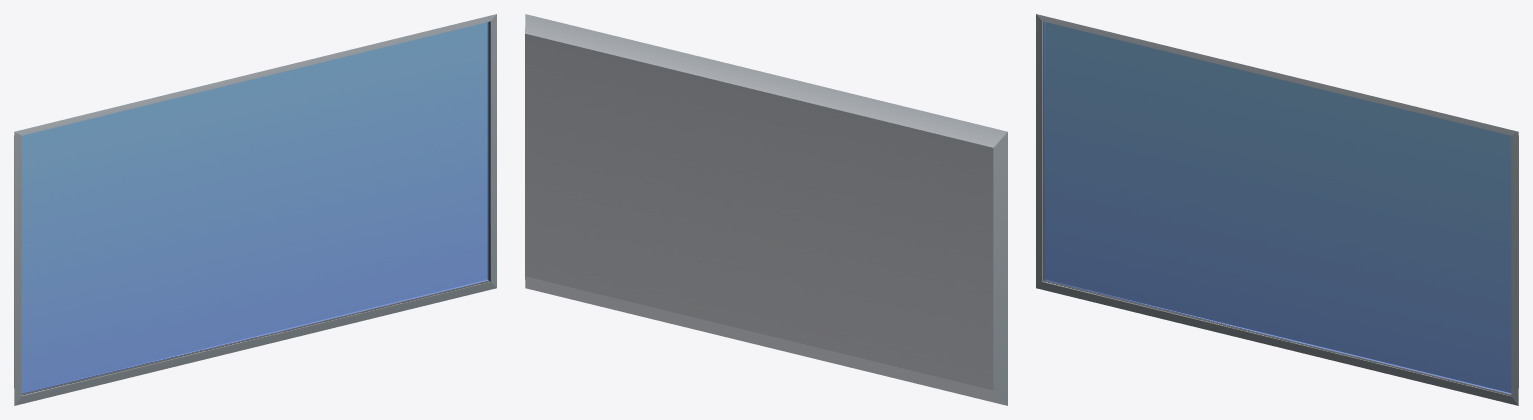
File: Big Monitor.fbx
3 renders of one model, left to right at view 1: azimuth 30°, elevation 25°; view 2: azimuth 150°, elevation 25°; view 3: azimuth 330°, elevation 25°, orthographic.
Parts seen in each view (by area): view 1: bigmonitor; view 2: bigmonitor; view 3: bigmonitor.
Boxes of the visible parts, left/top/right/bottom form: bigmonitor: left=14, top=14, right=496, bottom=405; bigmonitor: left=525, top=14, right=1007, bottom=405; bigmonitor: left=1036, top=14, right=1518, bottom=405.
Size of the model in its own units: 493 by 268 by 14.04.
